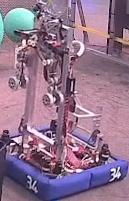blue_number: (105, 164, 124, 185), (23, 174, 40, 196)
